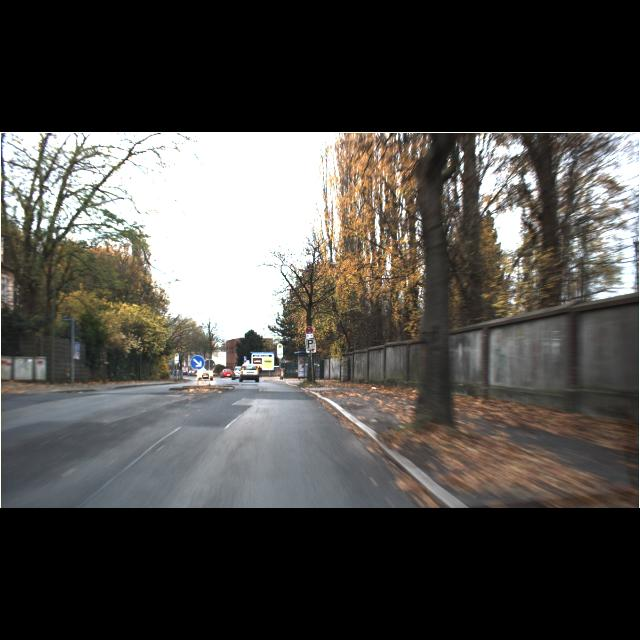mandatory: (190, 356, 204, 370)
